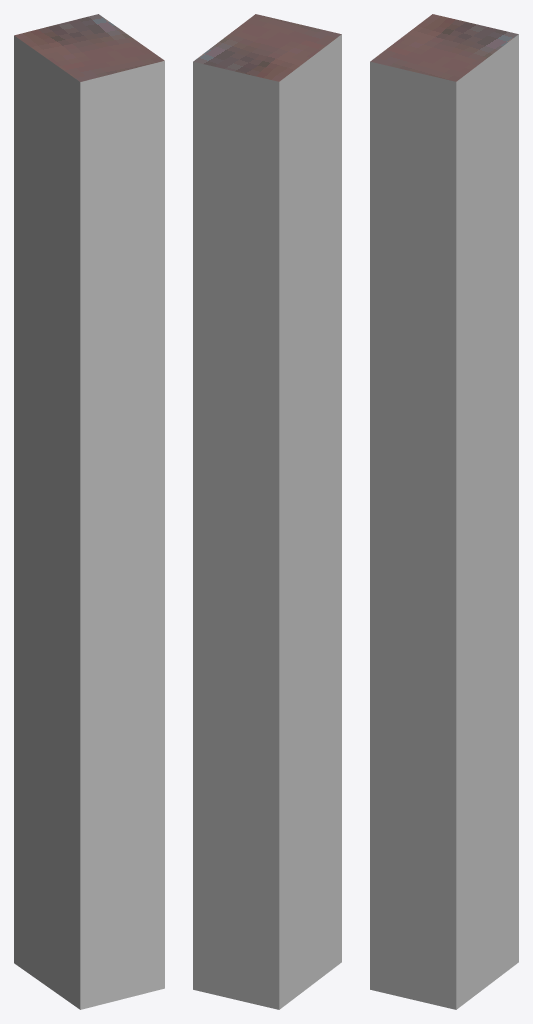
Rendered from DEBW_0010007THWg.gltf.
3 renders of one model, left to right at view 1: azimuth 30°, elevation 25°; view 2: azimuth 150°, elevation 25°; view 3: azimuth 330°, elevation 25°, orthographic.
Visible parts, largest first — view 1: Z_UP; view 2: Z_UP; view 3: Z_UP.
Boxes of the visible parts, bbox=[...] form: Z_UP: bbox=[14, 14, 164, 1009]; Z_UP: bbox=[193, 14, 341, 1009]; Z_UP: bbox=[370, 14, 518, 1009].
Bounding box in the file's own units: 1.86 × 18.9 × 2.41.
2 materials, 1 textured.
